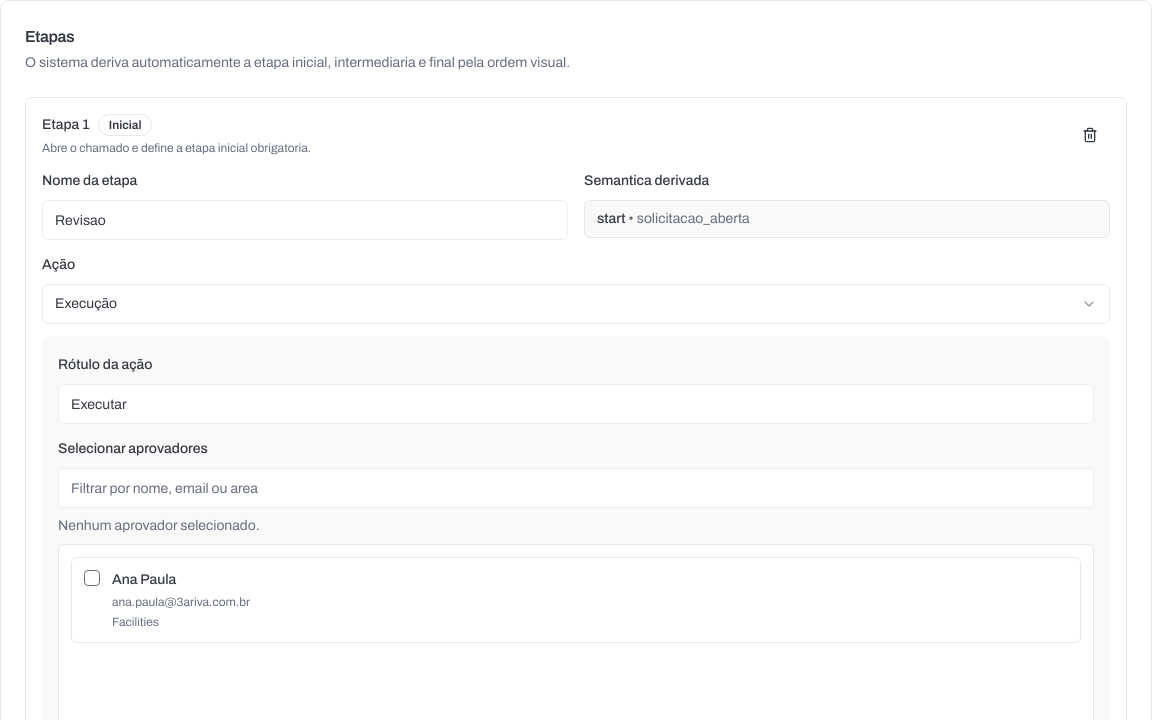
Test: WorkflowDraftStepsSection › shows attachment checkbox only for execution actions and resets legacy true when action changes
Click the dropdown at (86, 304), box [42,284,1110,324]
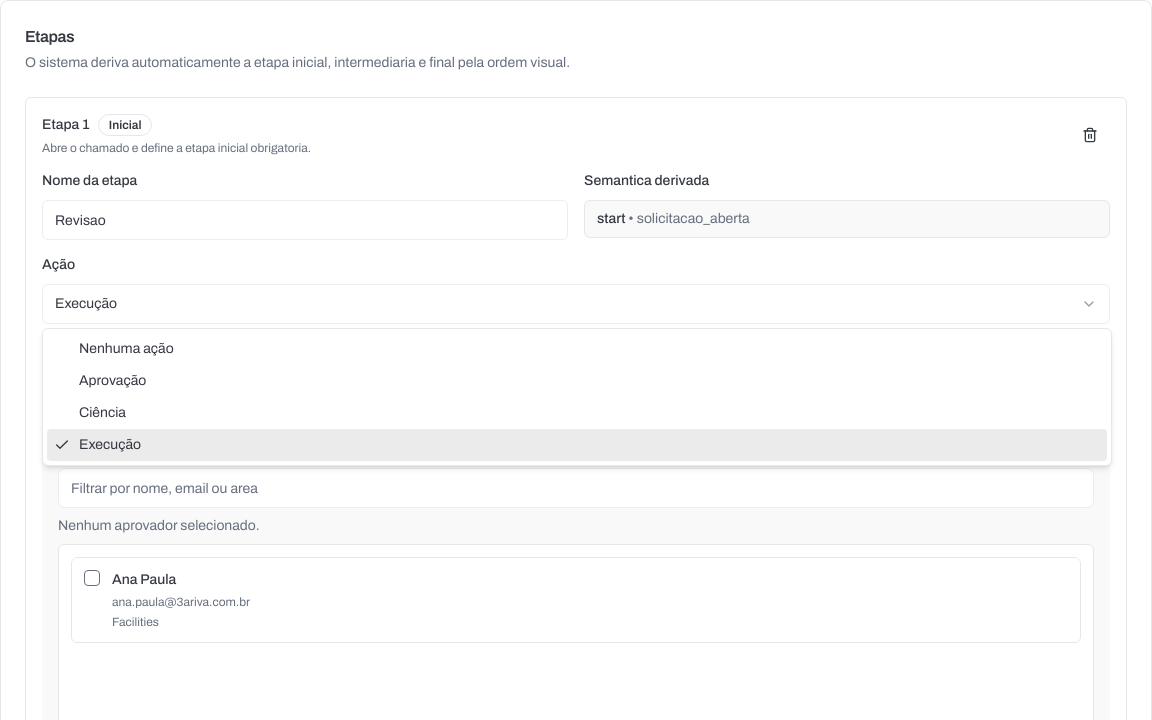
Click the option "Aprovação" at (113, 380), box [79,373,146,388]
(page scrolled)
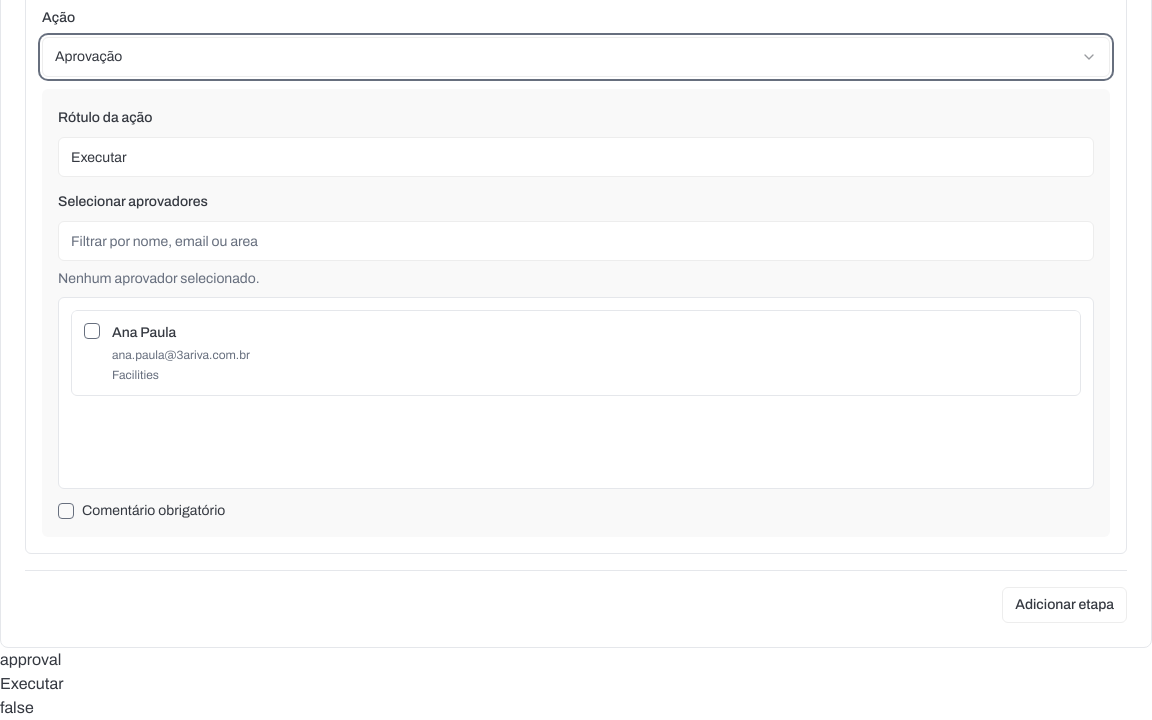
Expected: the text with test id "action-type" reads "approval", [0,651,61,668]
Expected: the text with test id "attachment-required" reads "false", [0,699,34,716]
